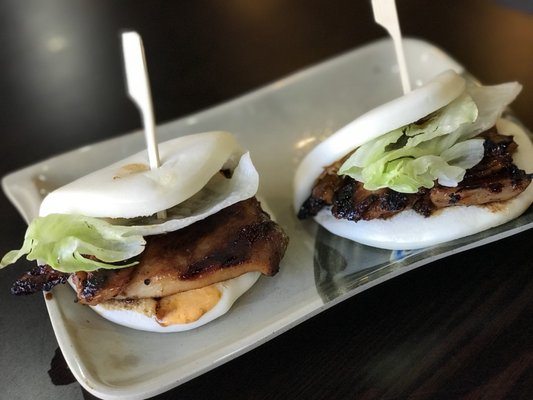burger: (371, 0, 415, 97)
salad: (119, 30, 164, 170)
soup: (6, 130, 290, 326), (293, 68, 533, 224)
